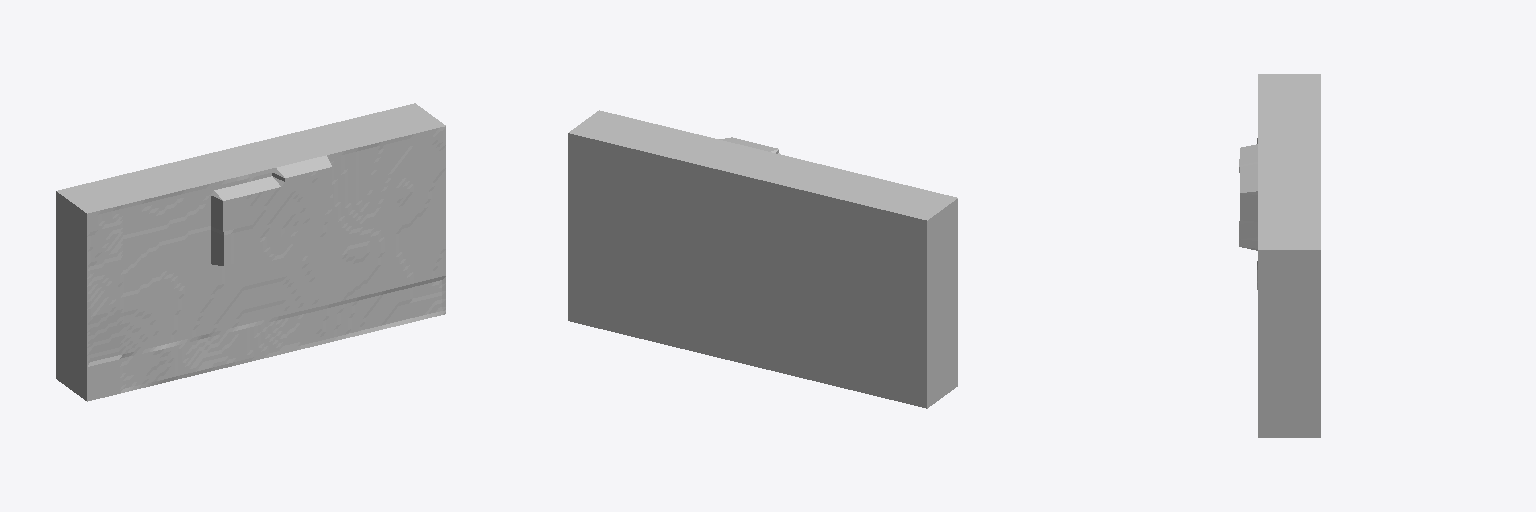
File: rectangular_prism_bumps_9_7.obj
3 renders of one model, left to right at view 1: azimuth 30°, elevation 25°; view 2: azimuth 150°, elevation 25°; view 3: azimuth 270°, elevation 25°, orthographic.
Bounding box in the file's own units: 10 × 5 × 1.96.